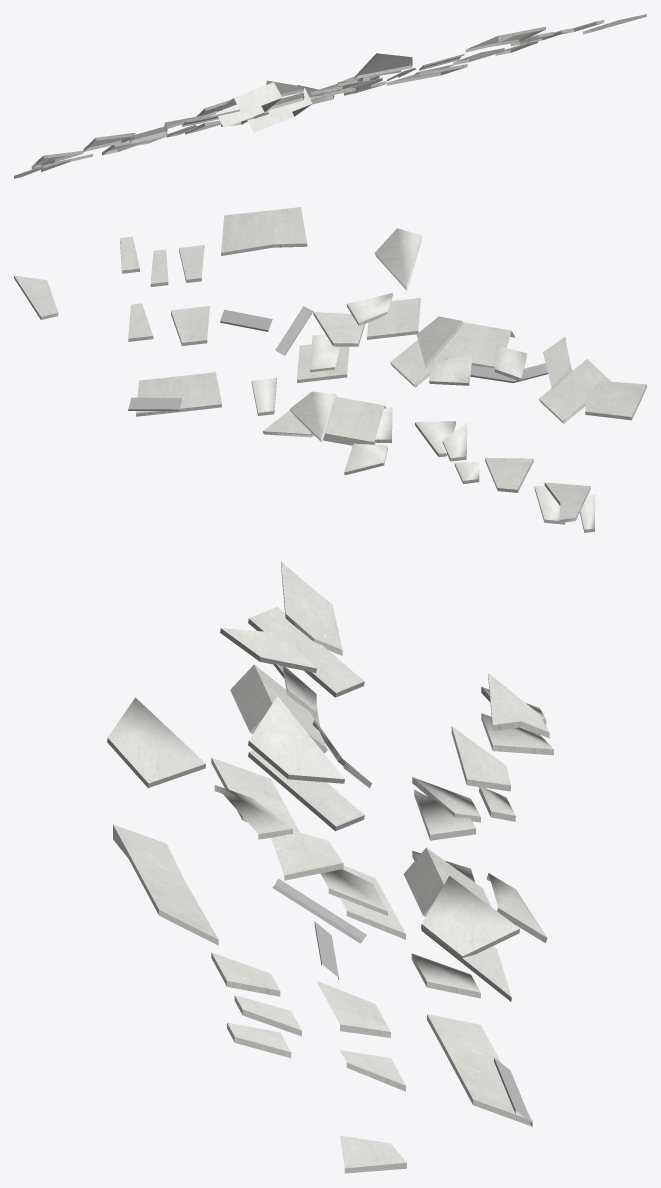
The model's file is Debris.fbx.
The picture shows the model from 3 angles, top to bottom: view 1: azimuth 30°, elevation 25°; view 2: azimuth 150°, elevation 25°; view 3: azimuth 270°, elevation 25°; orthographic projection. The views are drawn at different scales.
Visible parts, largest first — view 1: MuseumWhole.016; view 2: MuseumWhole.016; view 3: MuseumWhole.016.
Part boxes in pixels (x1,y1,x2,y2): MuseumWhole.016: (14, 14, 646, 178); MuseumWhole.016: (14, 207, 646, 532); MuseumWhole.016: (107, 561, 553, 1173).
Bounding box in the file's own units: 616 × 140 × 204.
